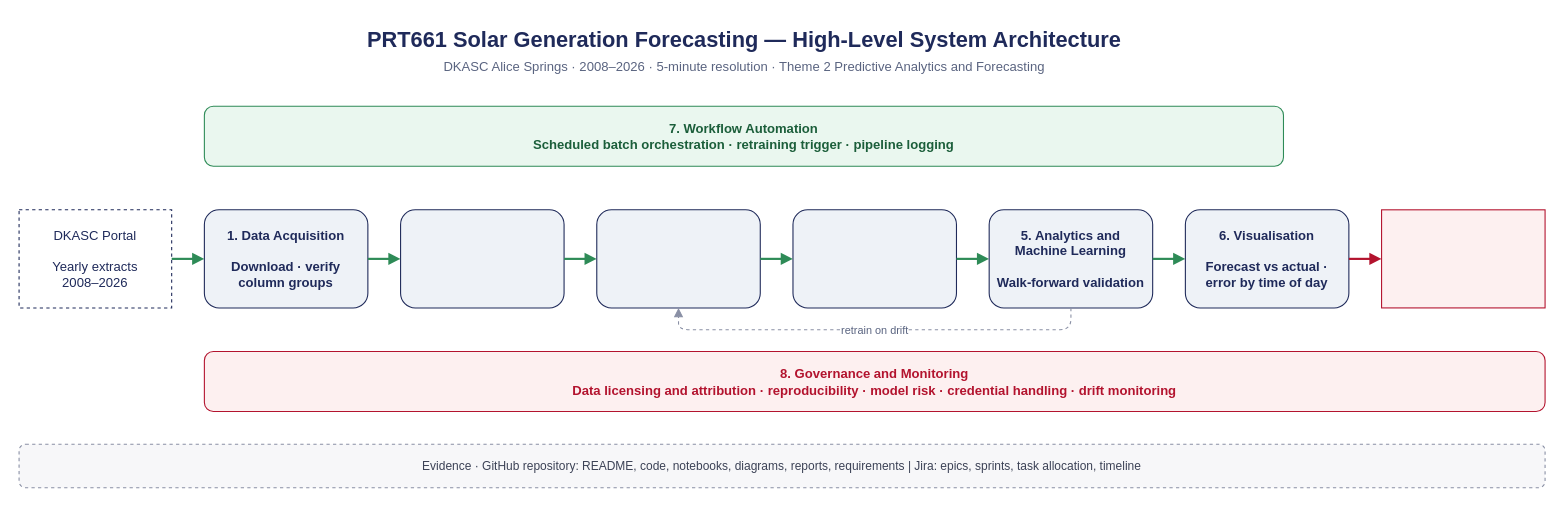
The diagram is 1564 pixels wide and 507 high, and some of its shapes have lost their labels. The centre of each missing label's shape, as x and y in pixels:
2. Data Storage Raw · Cleaned · Feature zones: [481,258]
3. Data Processing Deduplicate · reconcile schema · difference counter: [678,258]
4. Feature Engineering Lags · rolling stats · degradation · calendar: [874,258]
DECISION Battery charge / discharge schedule: [1462,258]
